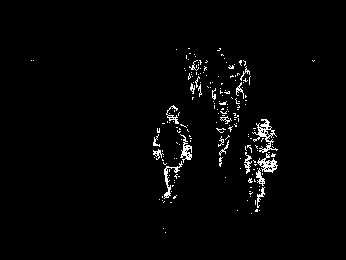person: (153, 105, 193, 205), (247, 115, 278, 216), (212, 81, 237, 169)
